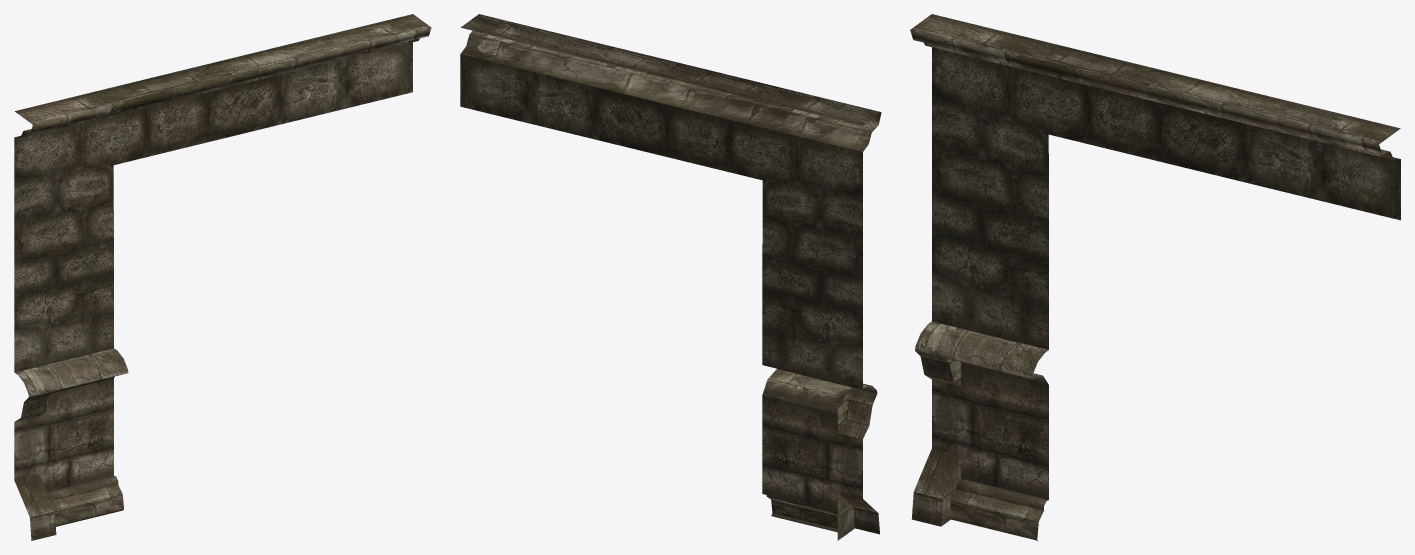
The model's file is door_way_worn_prison_left_amfp.dae.
3 renders of one model, left to right at view 1: azimuth 30°, elevation 25°; view 2: azimuth 150°, elevation 25°; view 3: azimuth 330°, elevation 25°, orthographic. The views are drawn at different scales.
Parts seen in each view (by area): view 1: castlebase_default_worn_mesh; view 2: castlebase_default_worn_mesh; view 3: castlebase_default_worn_mesh.
Part boxes in pixels (bbox=[...]): castlebase_default_worn_mesh: bbox=[14, 14, 431, 540]; castlebase_default_worn_mesh: bbox=[460, 14, 881, 540]; castlebase_default_worn_mesh: bbox=[910, 14, 1400, 540].
Size of the model in its own units: 4 by 4 by 0.3219.
